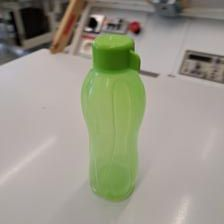bottle: (80, 33, 141, 201)
